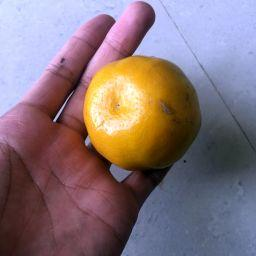Ripe: (83, 59, 199, 173)
